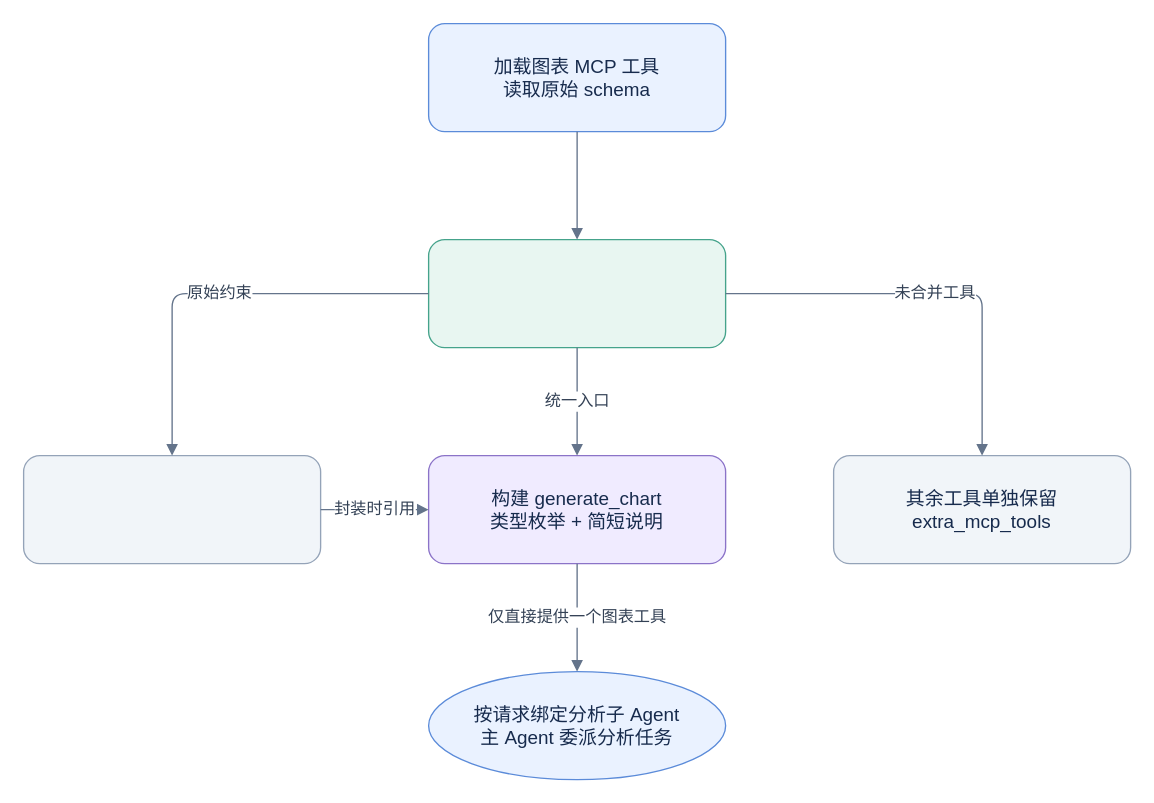
This 1154x803 diagram has some shape labels left out. The shapes that lost their labels are listed below. From the top down, each one's box as (x1, y1, x2, y2) in pixels, then its label:
(427, 238, 726, 348): 按工具名分类 识别当前可用图表类型
(22, 454, 321, 564): 后端保留完整能力 tool_map 与 validators
